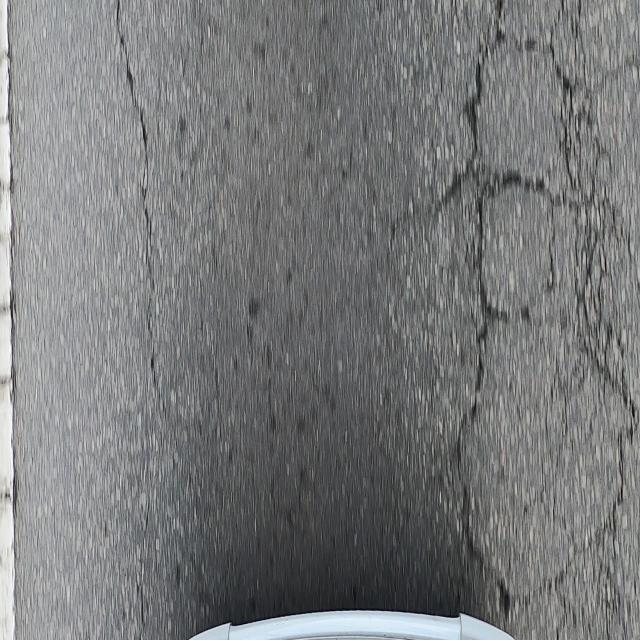Retak-Buaya: (440, 0, 640, 605)
Retak-Memanjang: (113, 1, 158, 390)
